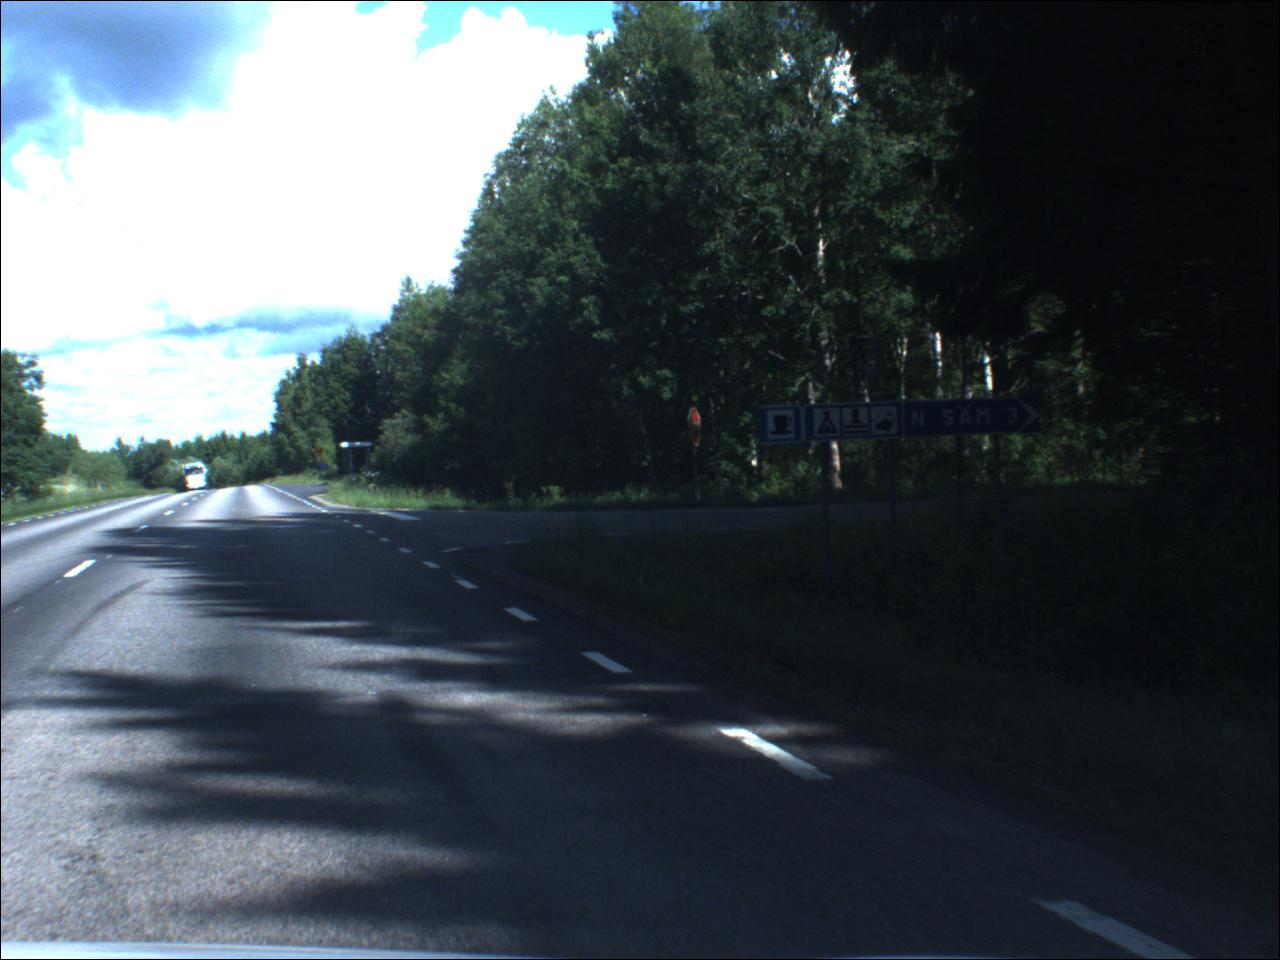STOP: (689, 409, 707, 450)
